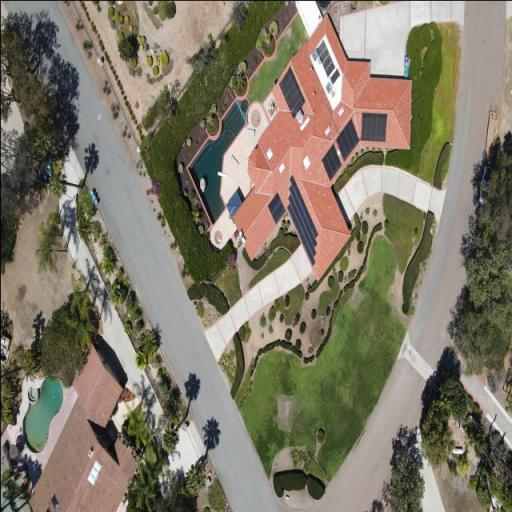solar-panel: (286, 174, 317, 266), (278, 65, 305, 118), (335, 117, 359, 161), (321, 143, 341, 181), (360, 112, 386, 141), (267, 191, 285, 224), (321, 53, 332, 70), (315, 39, 325, 56), (324, 60, 334, 77), (329, 68, 339, 84), (319, 46, 328, 63)
